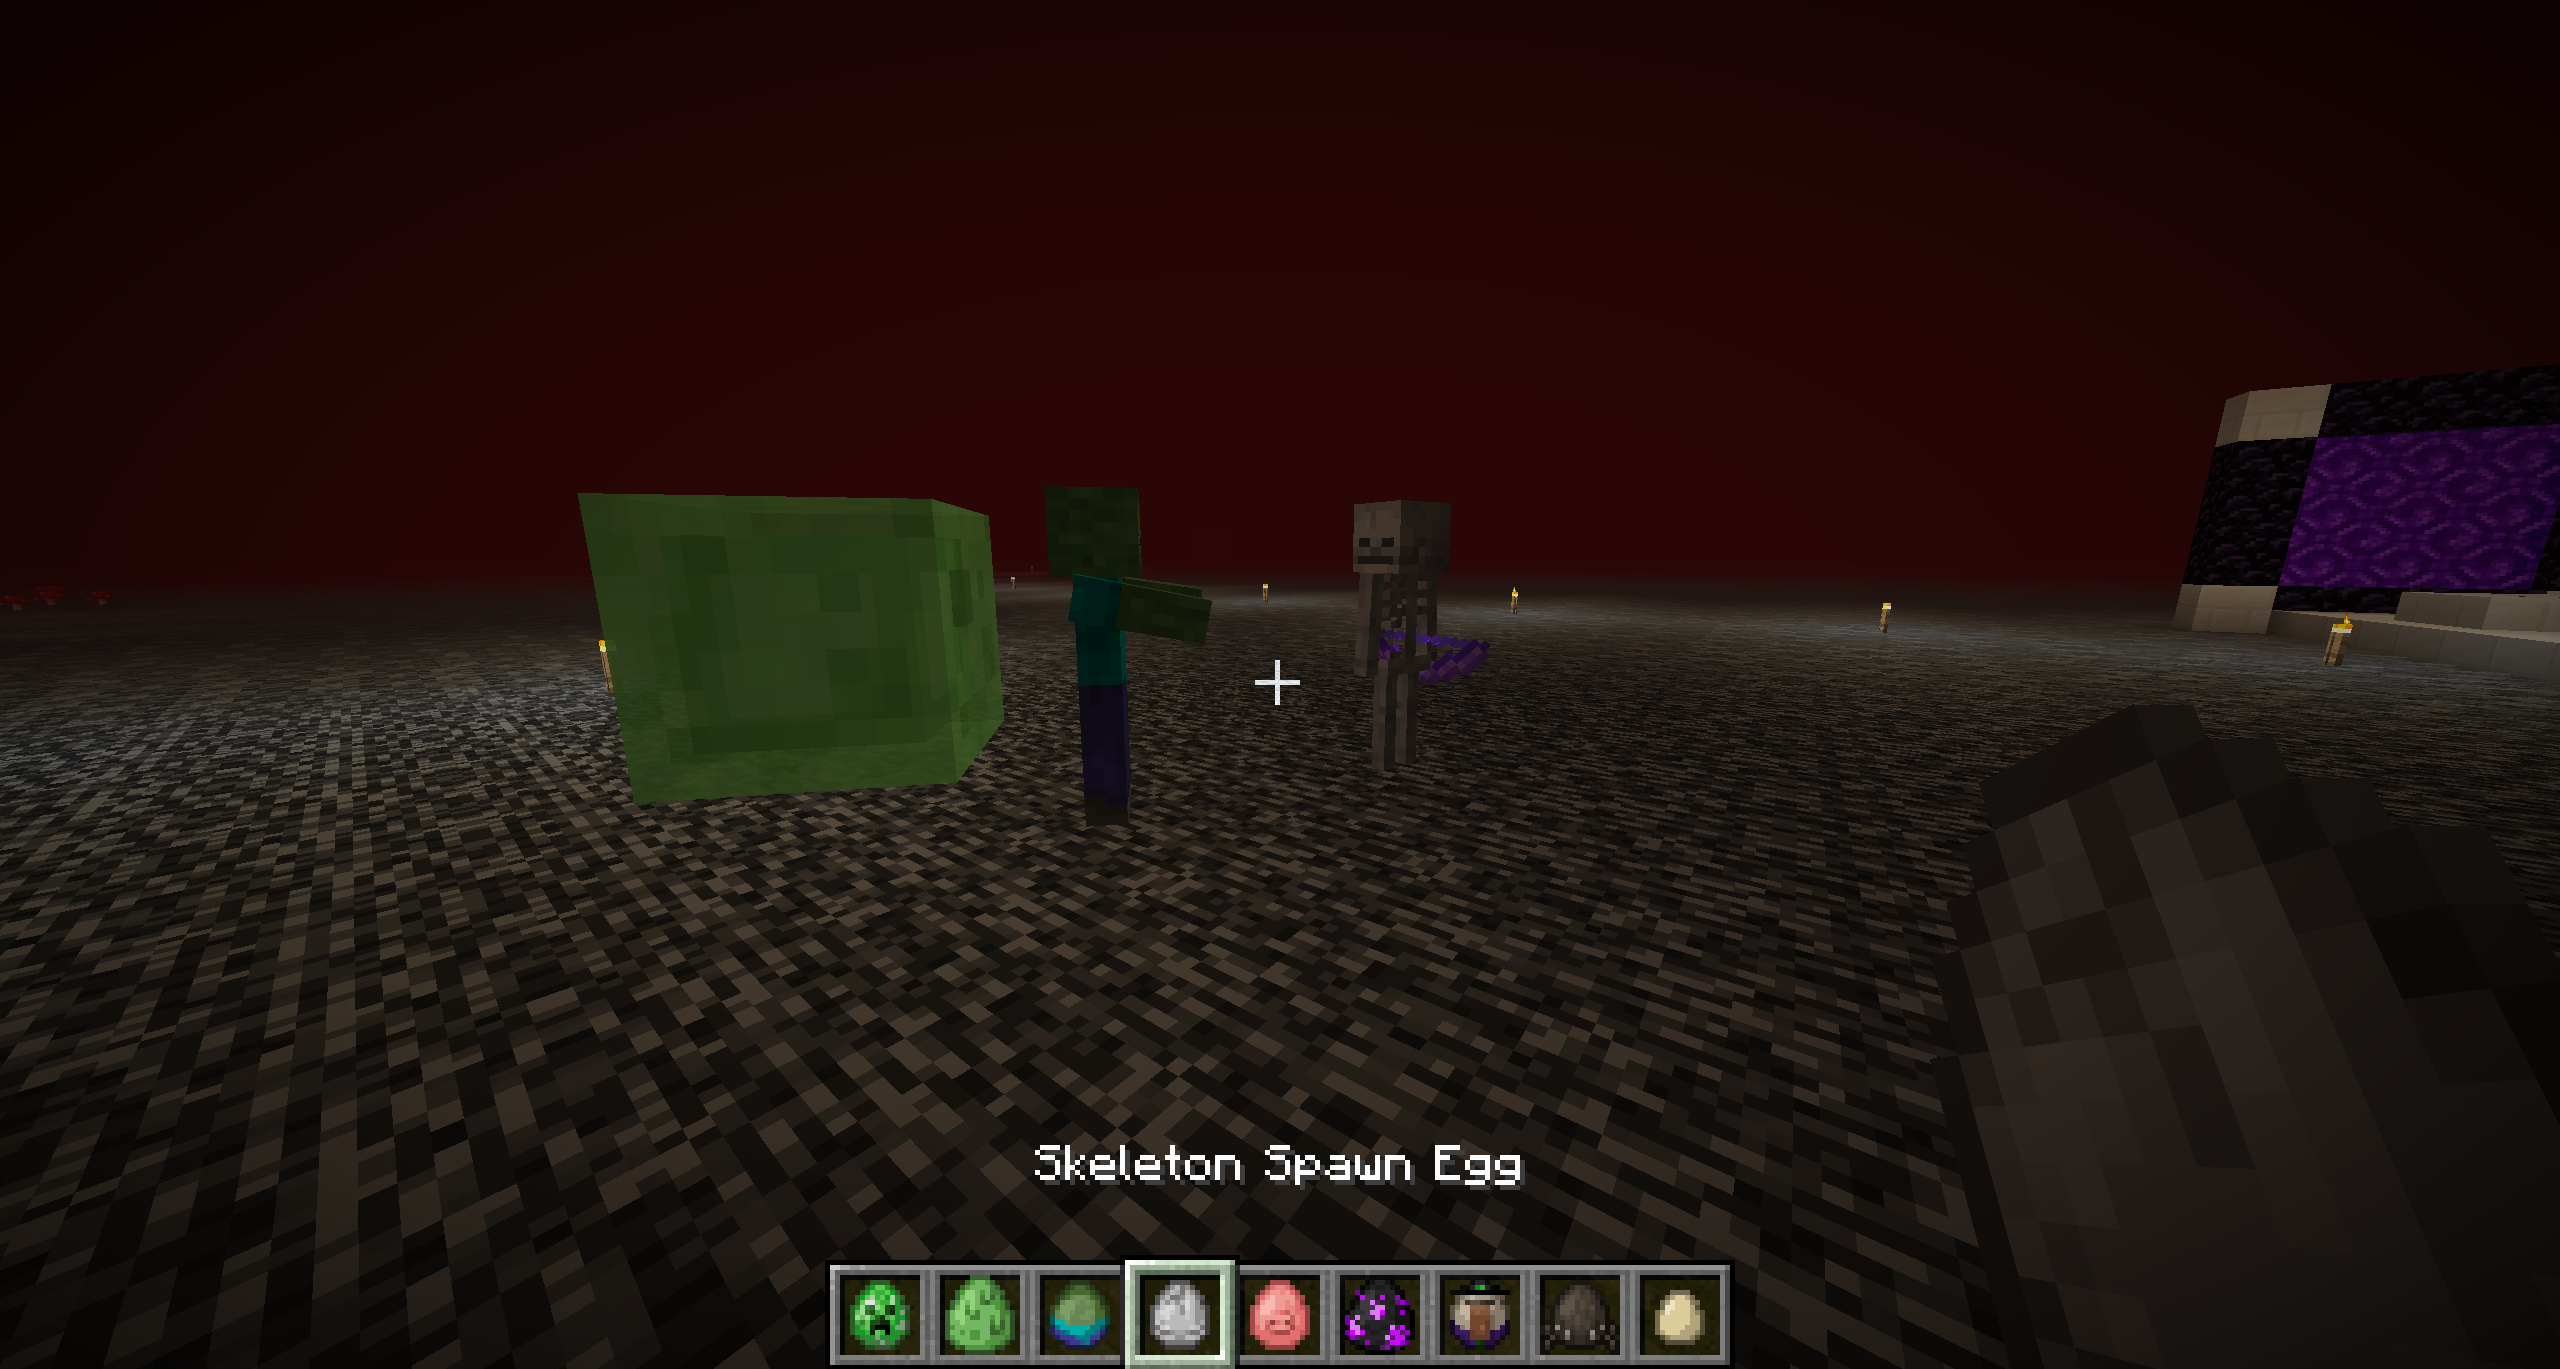slimes: (571, 486, 1012, 809)
squelettes: (1344, 496, 1443, 775)
zombies: (1048, 481, 1197, 836)
